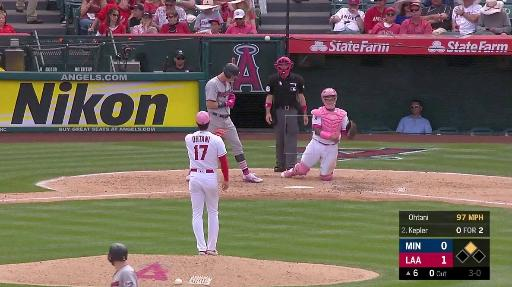pitcher: (185, 110, 230, 256)
